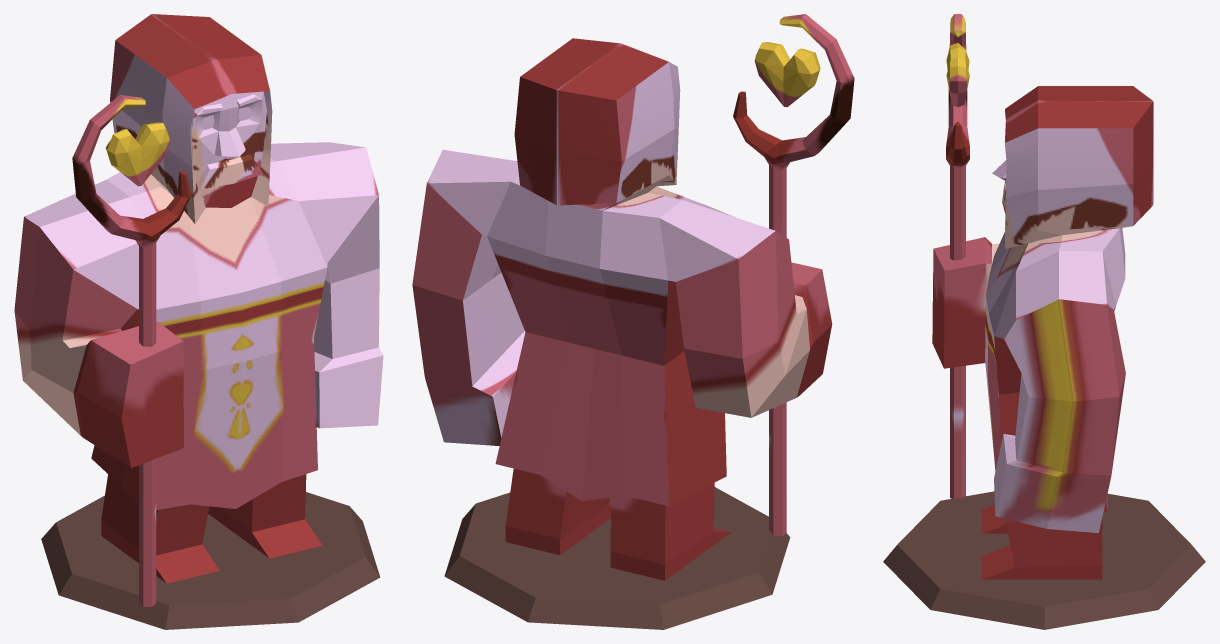
Rendered from Asset_Pawn_Swag.fbx.
3 views of the same model, side by side, from view 1: azimuth 30°, elevation 25°; view 2: azimuth 150°, elevation 25°; view 3: azimuth 270°, elevation 25° (orthographic). The views are drawn at different scales.
Visible parts, largest first — view 1: STP_body, Swag_Stand, staff, STP_heart; view 2: STP_body, Swag_Stand, staff, STP_heart; view 3: STP_body, Swag_Stand, staff, STP_heart.
Part boxes in pixels (x1,y1,x2,y2): STP_body: (14,14,383,583); Swag_Stand: (41,492,380,629); staff: (72,95,191,606); STP_heart: (105,122,170,186); STP_body: (412,38,832,580); Swag_Stand: (444,487,790,629); staff: (733,14,854,536); STP_heart: (754,42,820,107); STP_body: (932,86,1153,579); Swag_Stand: (883,491,1205,629); staff: (946,14,969,498); STP_heart: (946,43,969,107).
Bounding box in the file's own units: 52.06 × 74.4 × 44.72.
